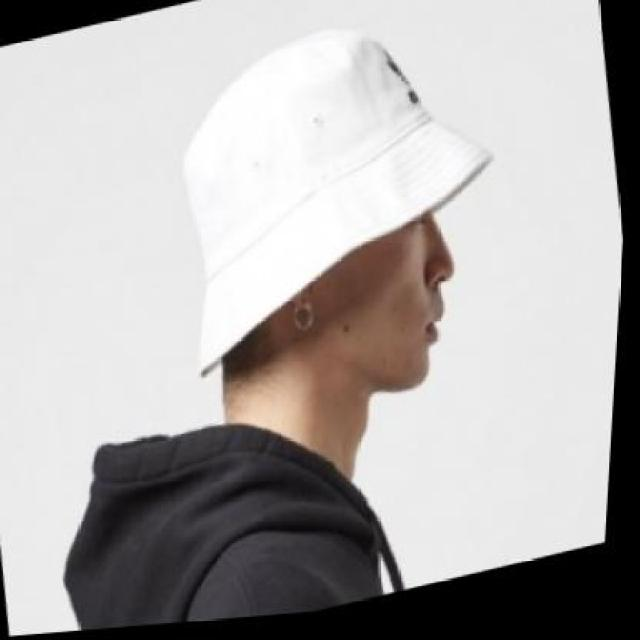hat: (148, 0, 524, 389)
